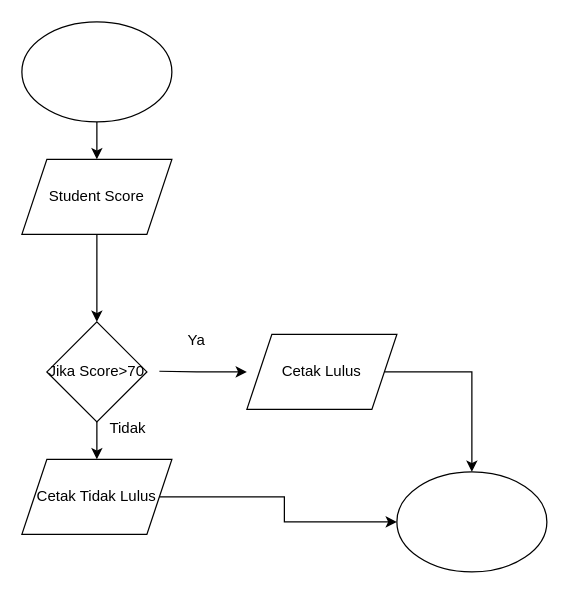
This 569x594 diagram has some shape labels left out. Each missing label, with the centre of its shape:
"End" belongs at (x=471, y=521).
"Start" belongs at (x=96, y=71).
